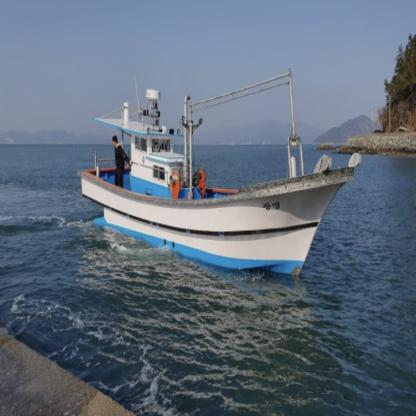fish-b: (75, 58, 365, 294)
